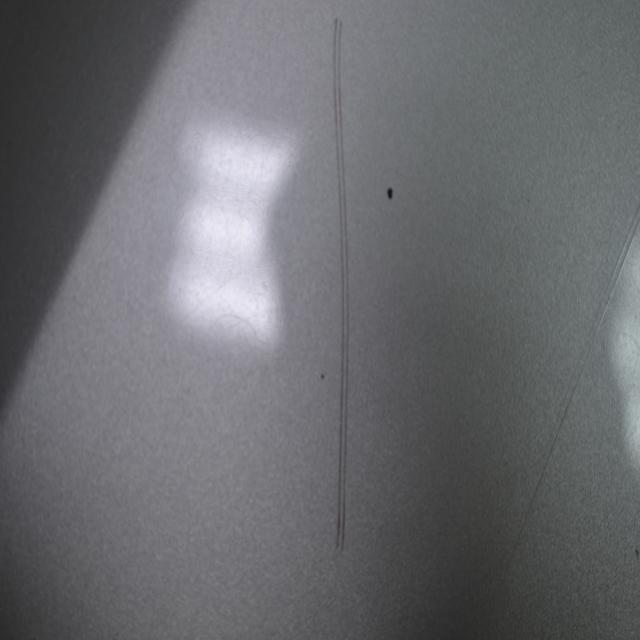dirt: (317, 369, 328, 384), (386, 183, 394, 202), (634, 542, 640, 560)
scratch: (506, 198, 640, 568), (330, 15, 353, 566)
